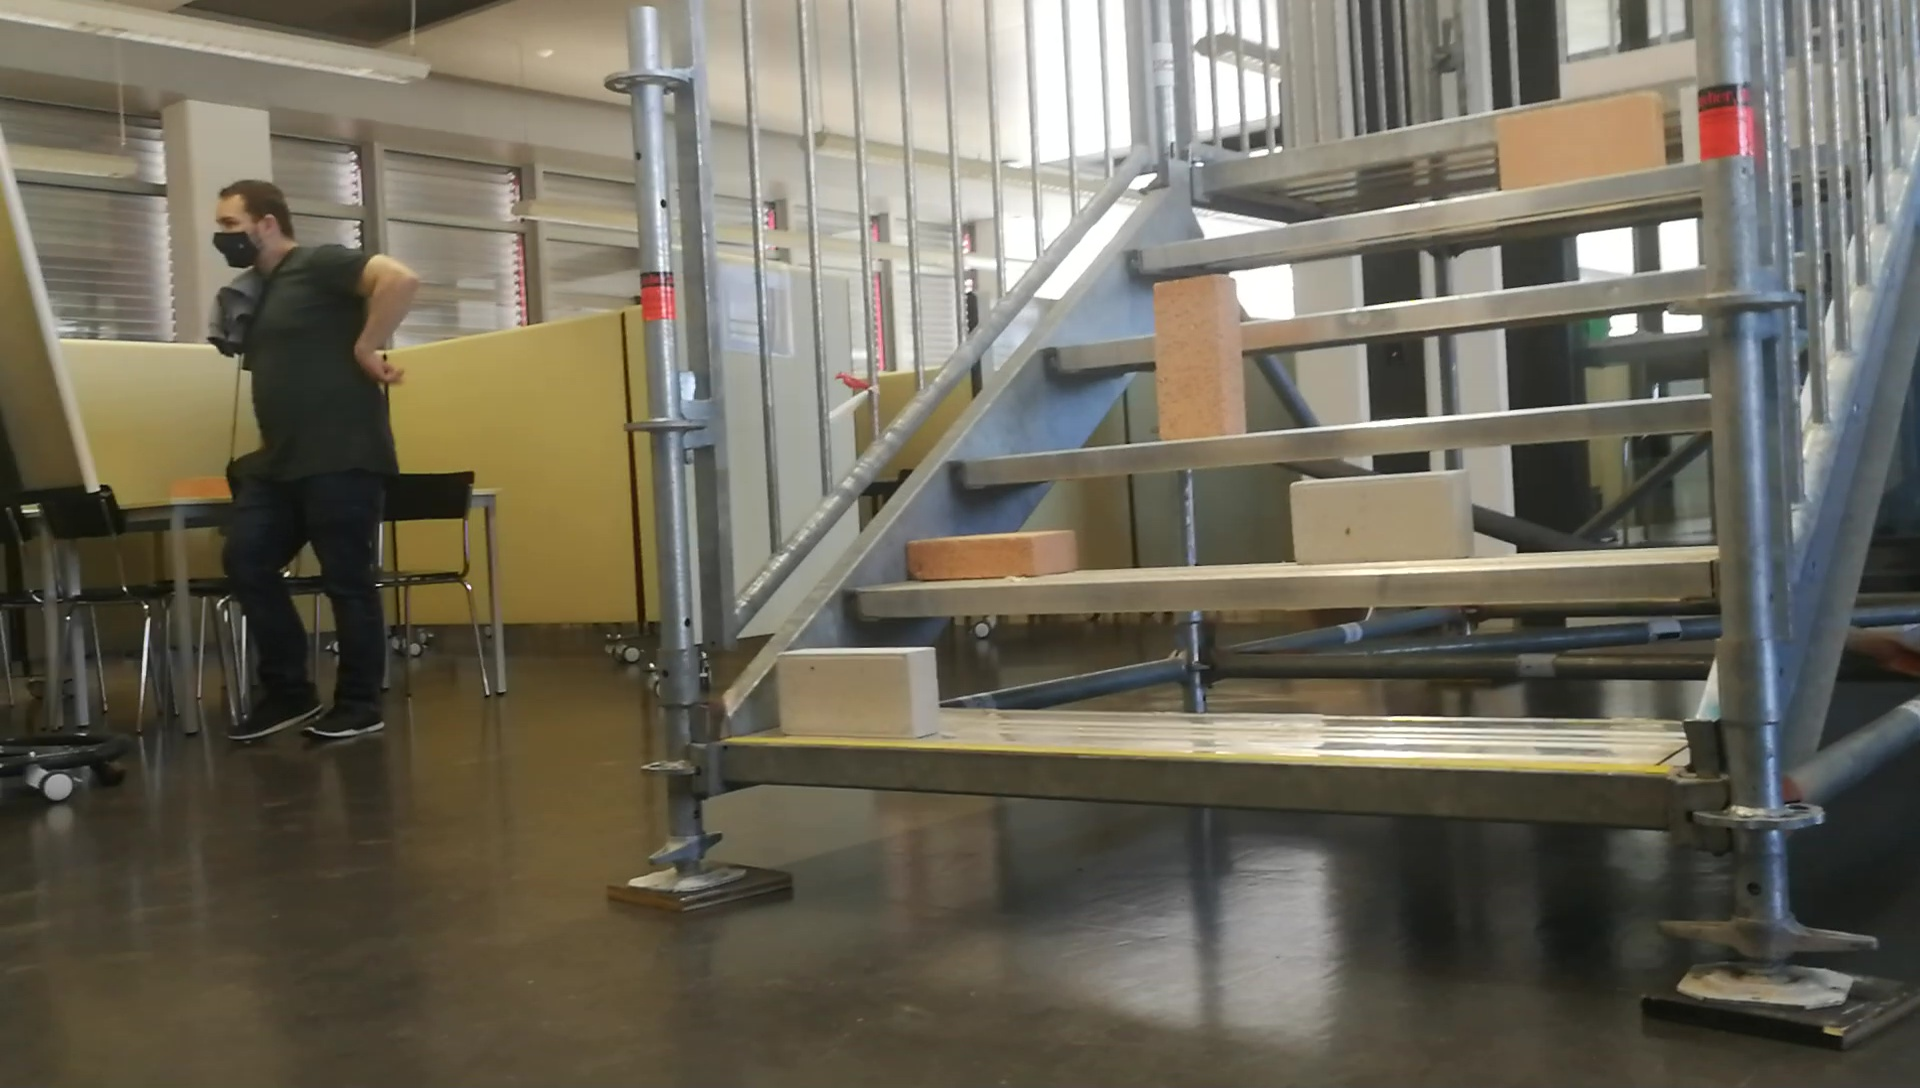brick: (1495, 92, 1658, 187), (1294, 472, 1468, 558), (1153, 274, 1242, 440), (779, 650, 938, 737), (909, 528, 1073, 575), (1563, 42, 1695, 84)
edge: (715, 740, 1669, 826), (1035, 270, 1713, 373), (943, 396, 1721, 483), (1120, 167, 1702, 268), (843, 563, 1722, 615)
stairs: (603, 3, 1789, 1033)
